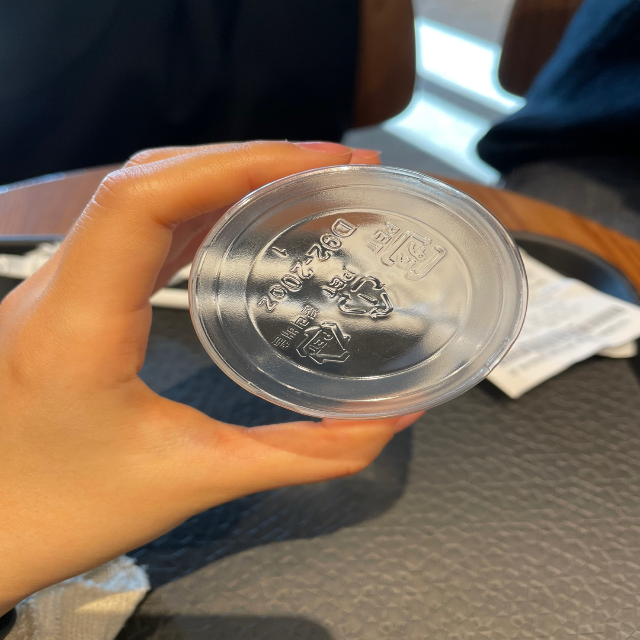pet: (361, 210, 454, 284), (267, 303, 356, 369), (319, 265, 394, 324)
